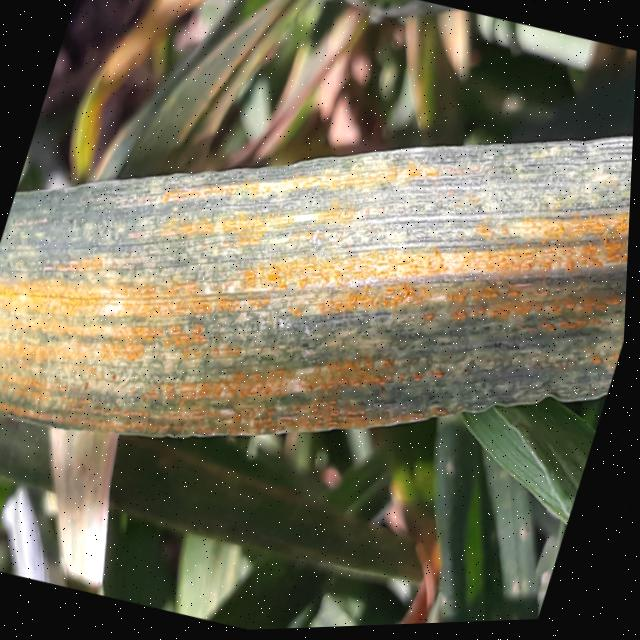yellow_rust: (0, 0, 640, 575), (54, 0, 492, 260), (341, 463, 507, 629), (594, 47, 638, 118)
